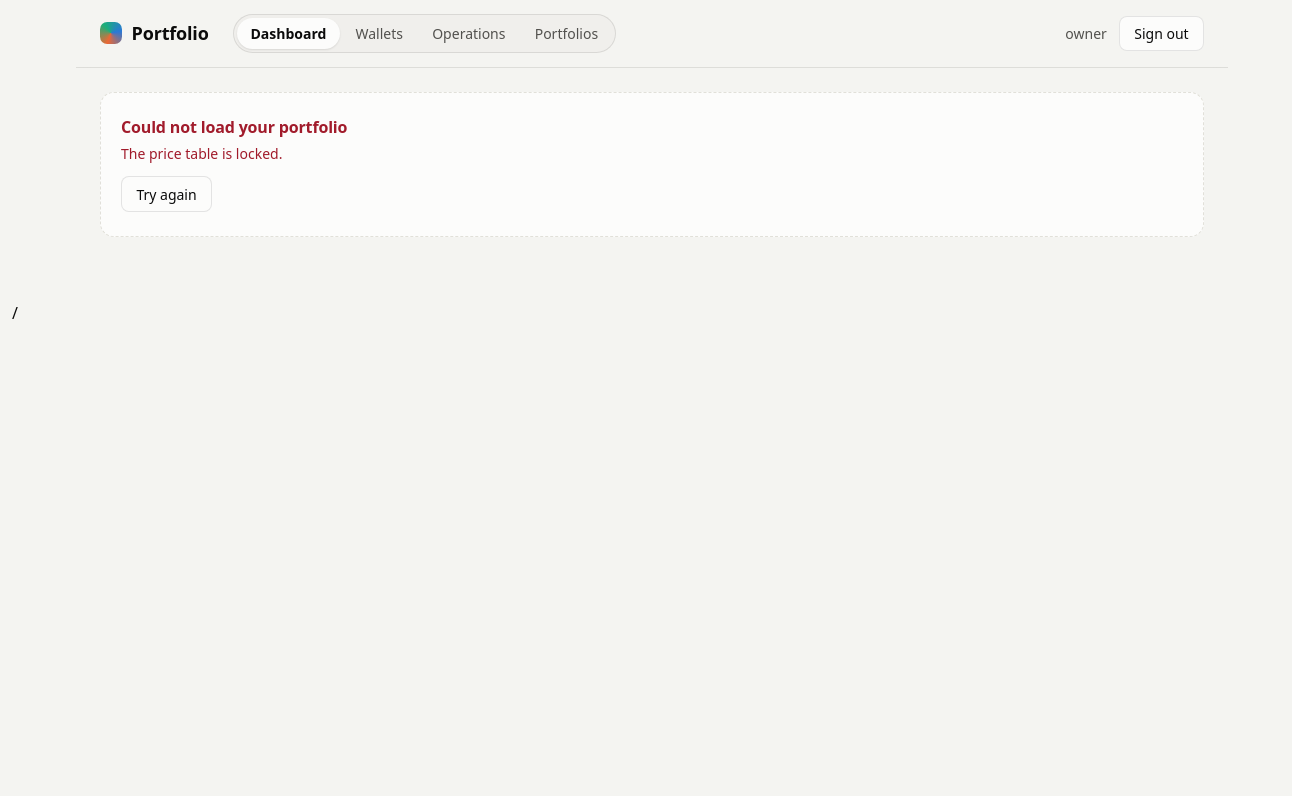
Test: DashboardPage: states › says the summary could not be read, and reads it again on request
The width and height of the screenshot is (1292, 796).
expect the heading "Could not load your portfolio" is shown: met, box [121,116,347,138]
expect the message shows "The price table is locked.": met, box [121,144,282,163]
Click the button "Try again" at {"x": 166, "y": 194}, box [121,176,212,212]
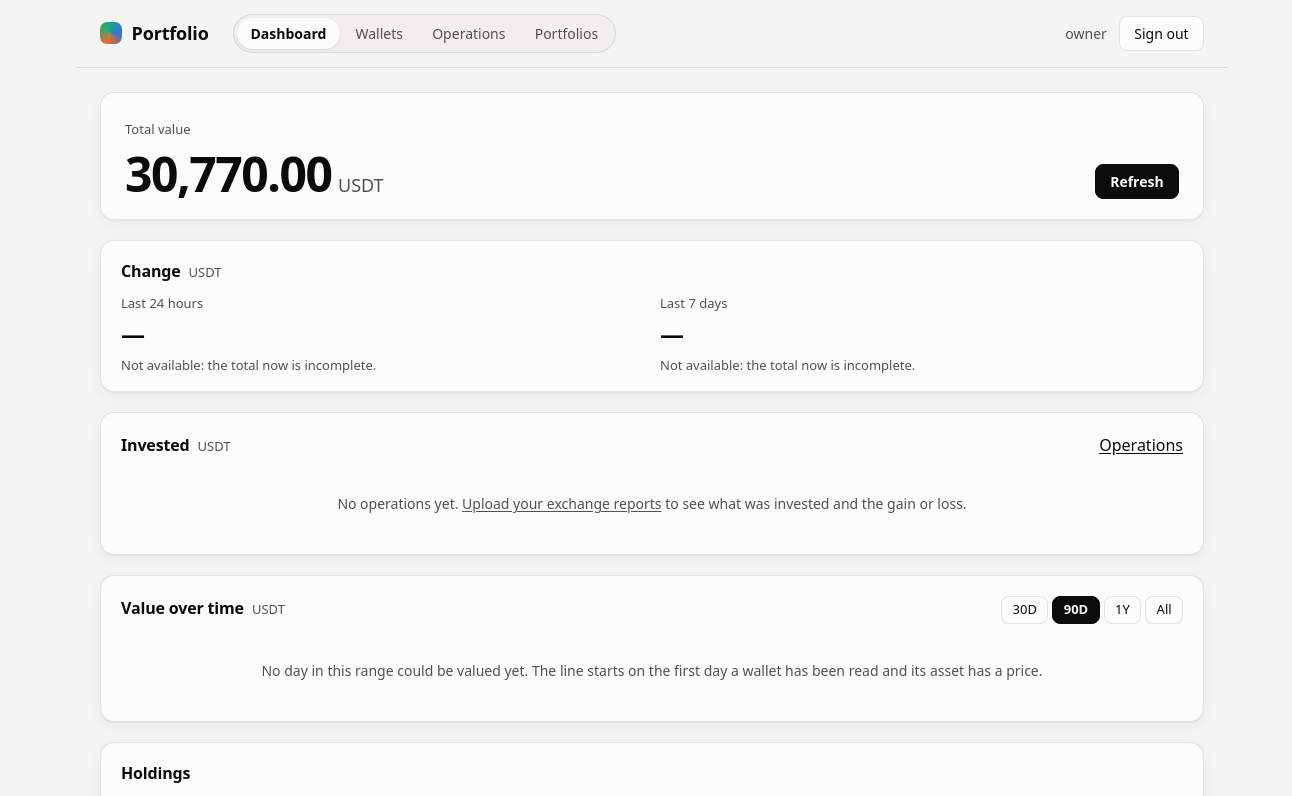
expect the element "Total value" is shown: met, box [100,92,1204,220]
expect the message "Could not load your portfolio The price table is locked. Try again" is gone: met
